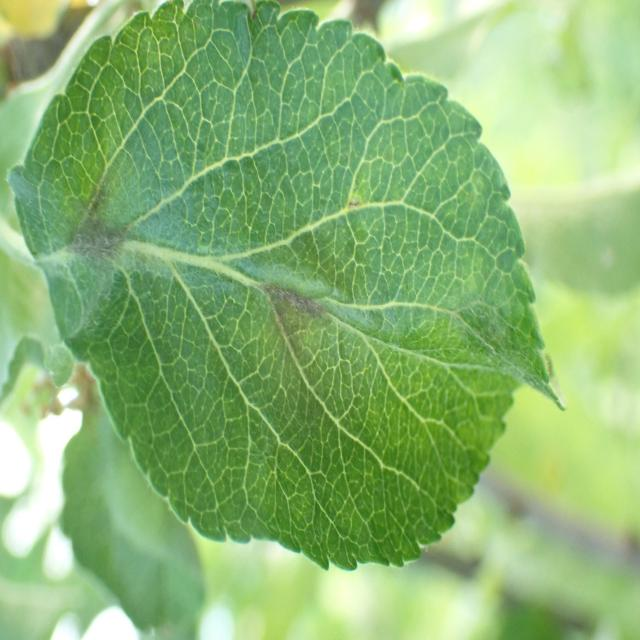scab: (24, 90, 553, 542)
